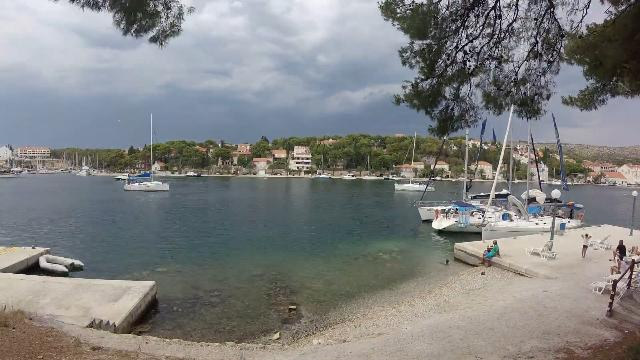Freighter: (0, 162, 26, 180)
Sailboat: (120, 176, 174, 196), (390, 179, 440, 195)
speedboat: (109, 170, 138, 182), (182, 168, 202, 178)
